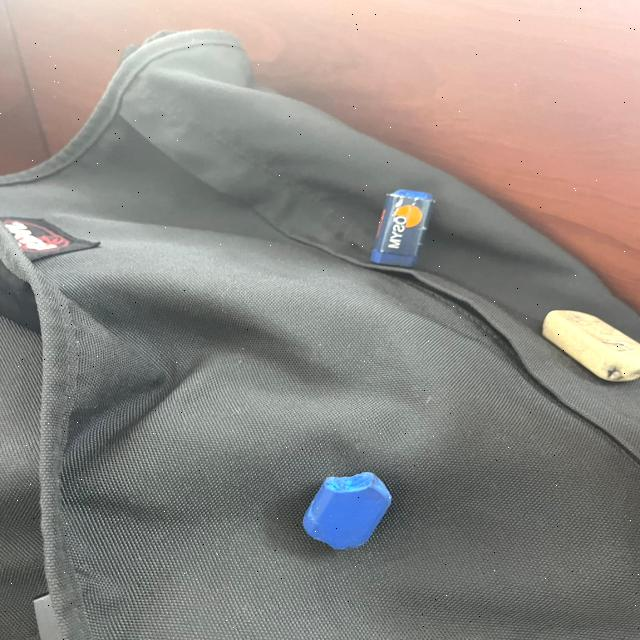eraser: (322, 179, 456, 288), (291, 461, 408, 552), (519, 299, 640, 386)
